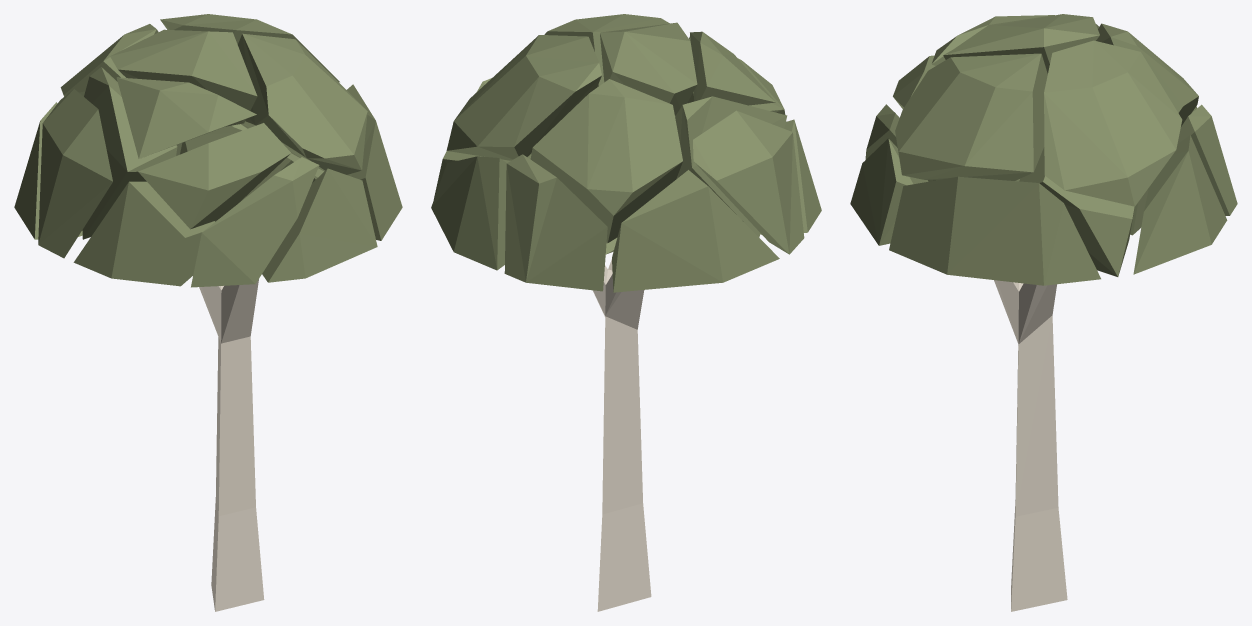
The model's file is tree_2.fbx.
3 views of the same model, side by side, from view 1: azimuth 30°, elevation 25°; view 2: azimuth 150°, elevation 25°; view 3: azimuth 270°, elevation 25° (orthographic).
Parts seen in each view (by area): view 1: tree_2; view 2: tree_2; view 3: tree_2.
Part boxes in pixels (x1,y1,x2,y2): tree_2: (14, 14, 402, 611); tree_2: (431, 14, 821, 611); tree_2: (850, 14, 1237, 611).
Bounding box in the file's own units: 199 × 322 × 200.
